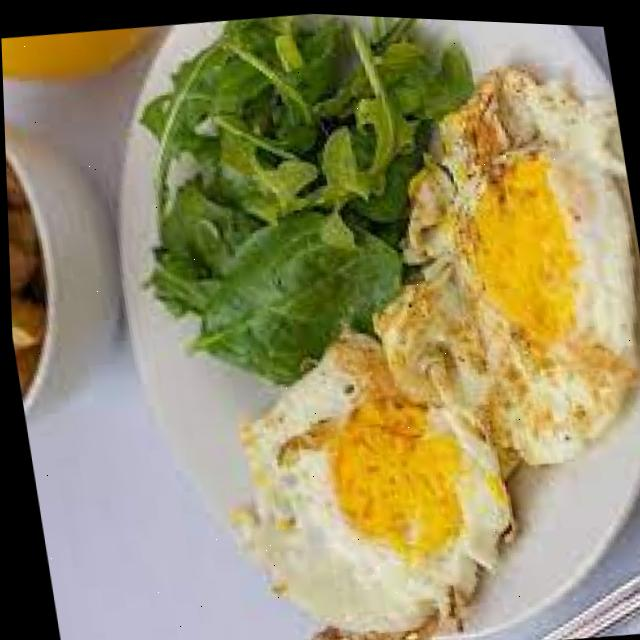Egg: (371, 61, 631, 469), (226, 328, 507, 627)
